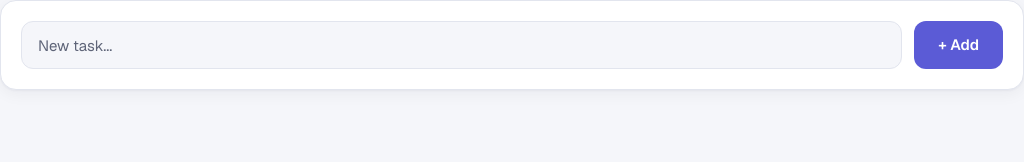
Test: AddTodoForm › hides the error as soon as the user starts typing again
Click the button "+ Add": click(959, 45) [914, 21, 1003, 69]
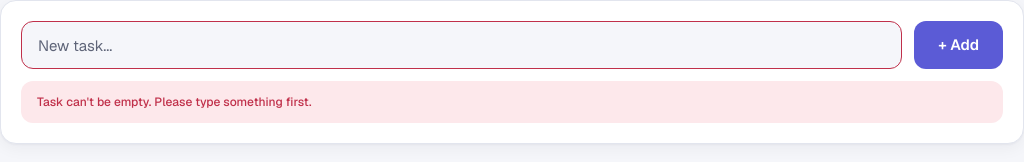
Now the message "Task can't be empty. Please type something first." is shown, box [21, 81, 1003, 123]
In the field with placeholder "New task...": (462, 45) [21, 21, 902, 69], type "B"
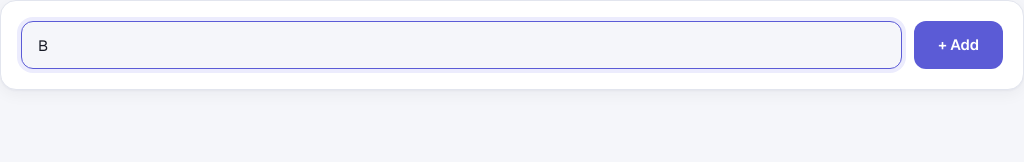
Now the message "Task can't be empty. Please type something first." is gone
